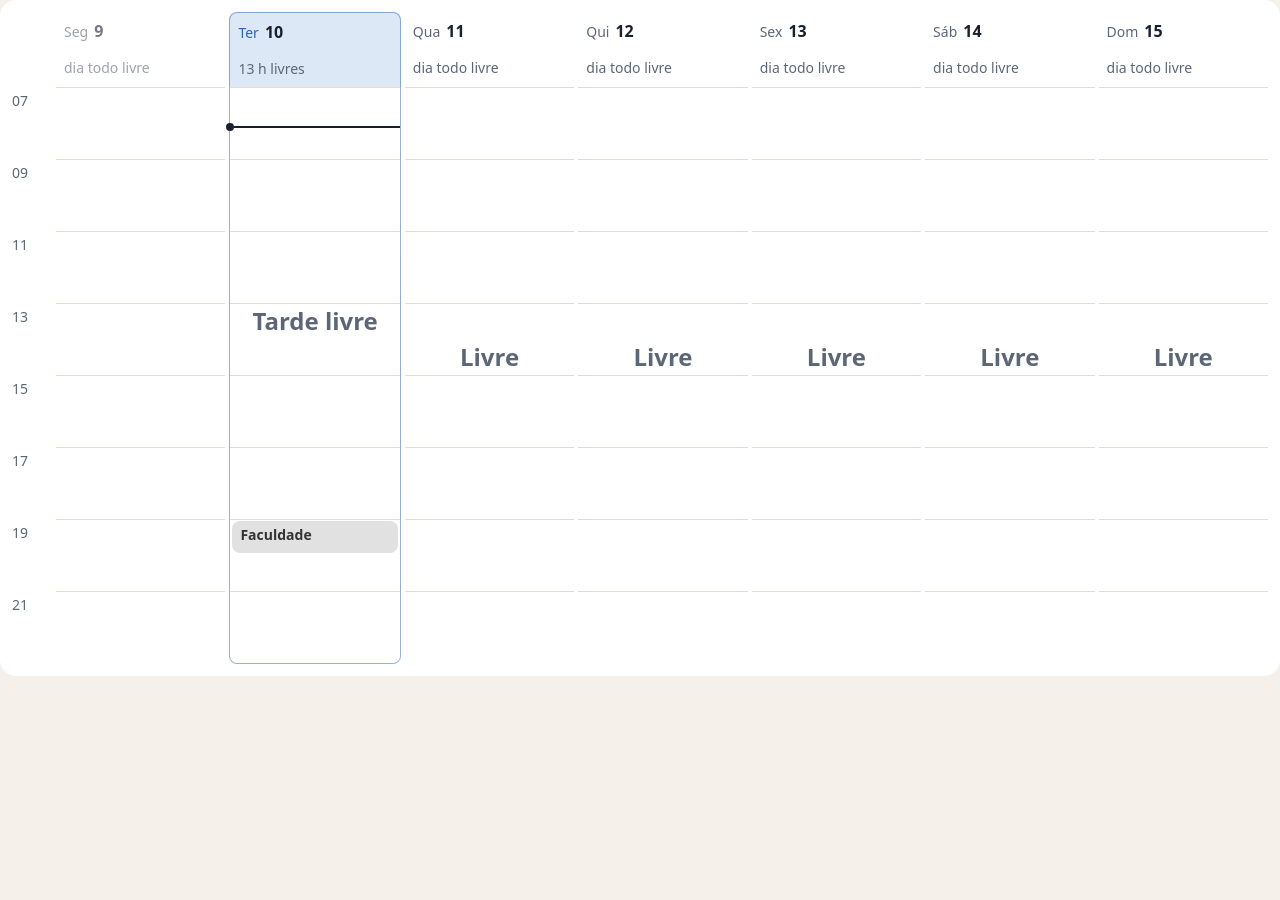
Test: WeekGrid: dia aberto › a etiqueta com outro bloco abre o dia
Click the button named "Faculdade, Estudos, 19:00–20:00; também Limpeza" at (315, 537), box x1=232 y1=521 x2=398 y2=553
(page scrolled)
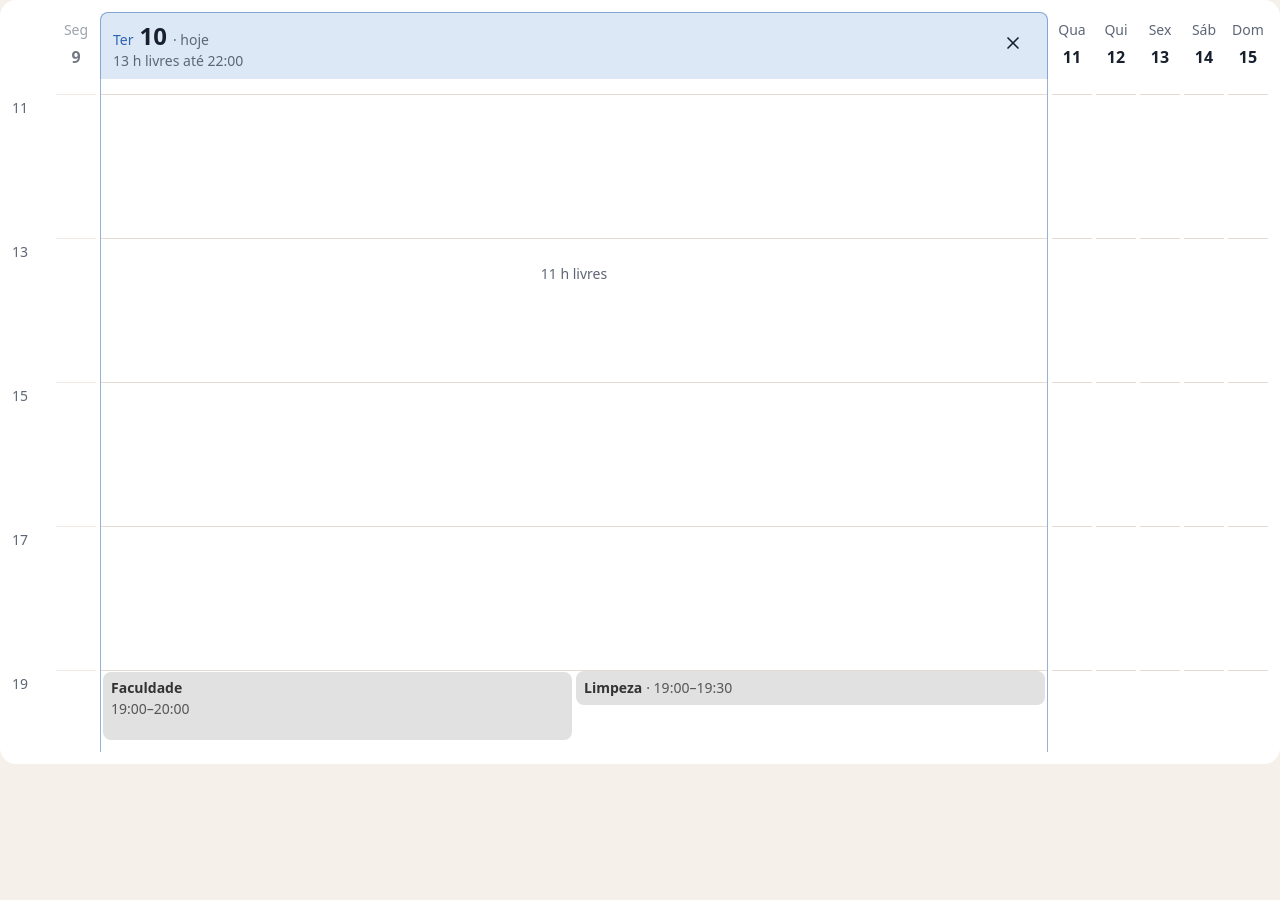
Now the element that starts with "11 h livres" is shown
